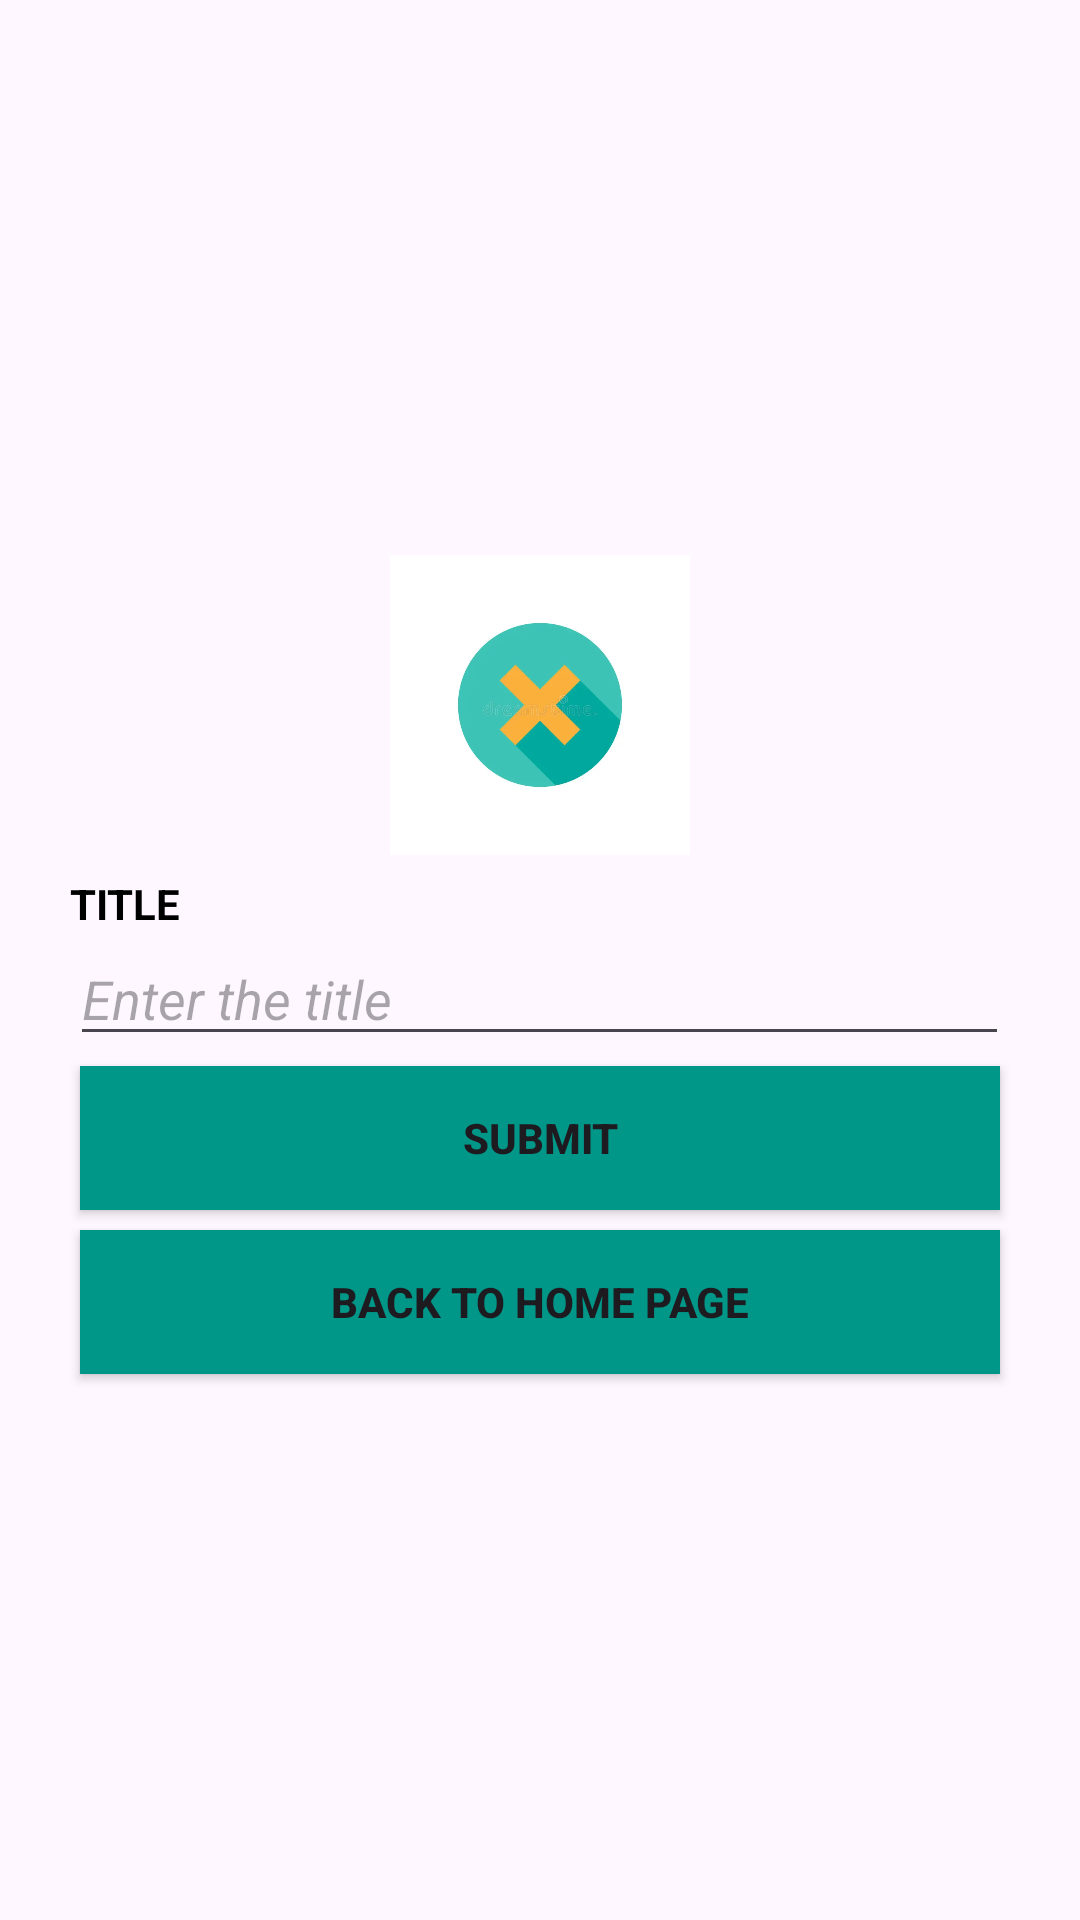

Screen size 1080×1920. Icon name, then its box in pixels as (x1, y1, x2, y2):
delete: (458, 623, 622, 787)
